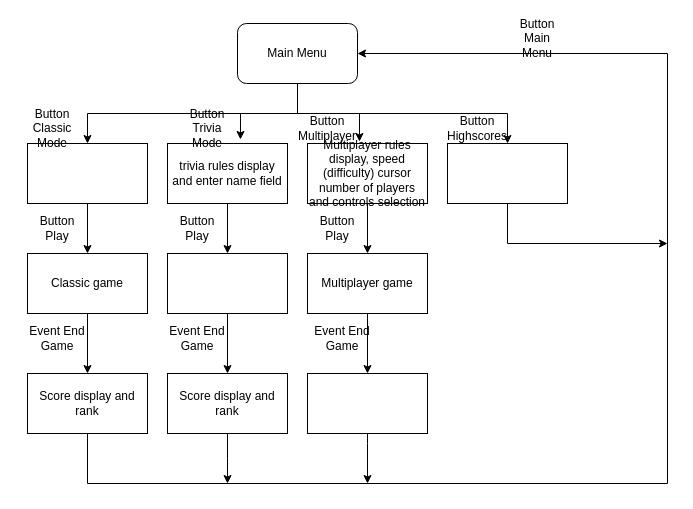
This 693x509 diagram has some shape labels left out. The shapes that lost their labels are listed below. From the top down, each one's centre as x and y in pixels, then its label:
point 87,173: Classic level rules display and enter name field
point 507,173: High scores display for classic and trivia modes
point 227,283: Trivia game
point 367,403: Rank display
